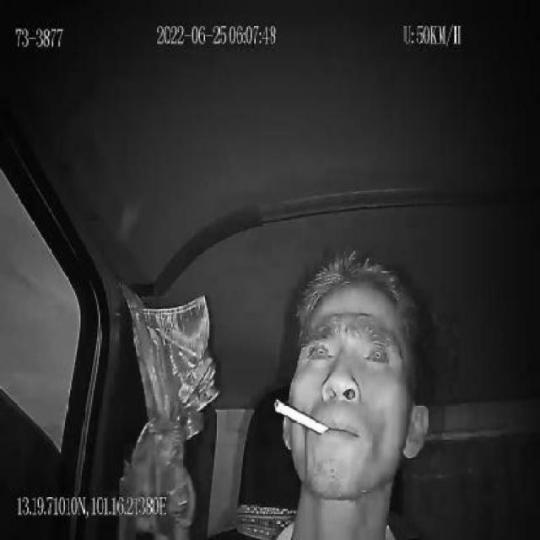smoking: (271, 392, 329, 437)
